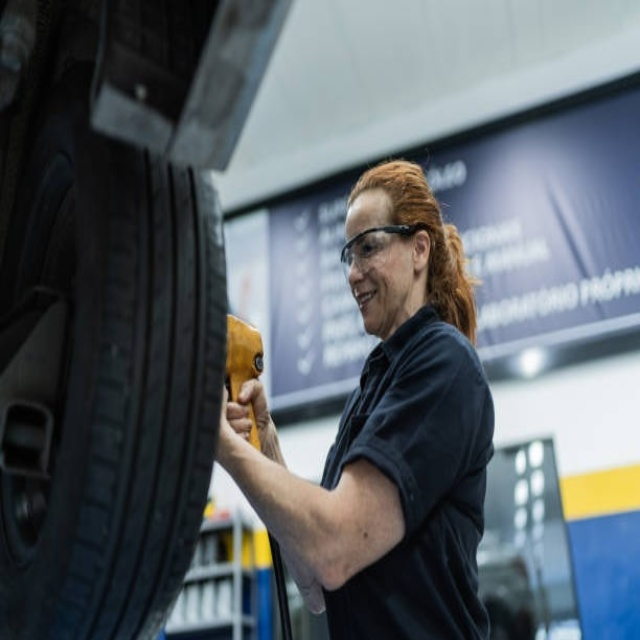Gafas: (340, 224, 424, 271)
Sin_guantes: (222, 370, 280, 464)
Sin_mascara: (350, 285, 384, 322)
